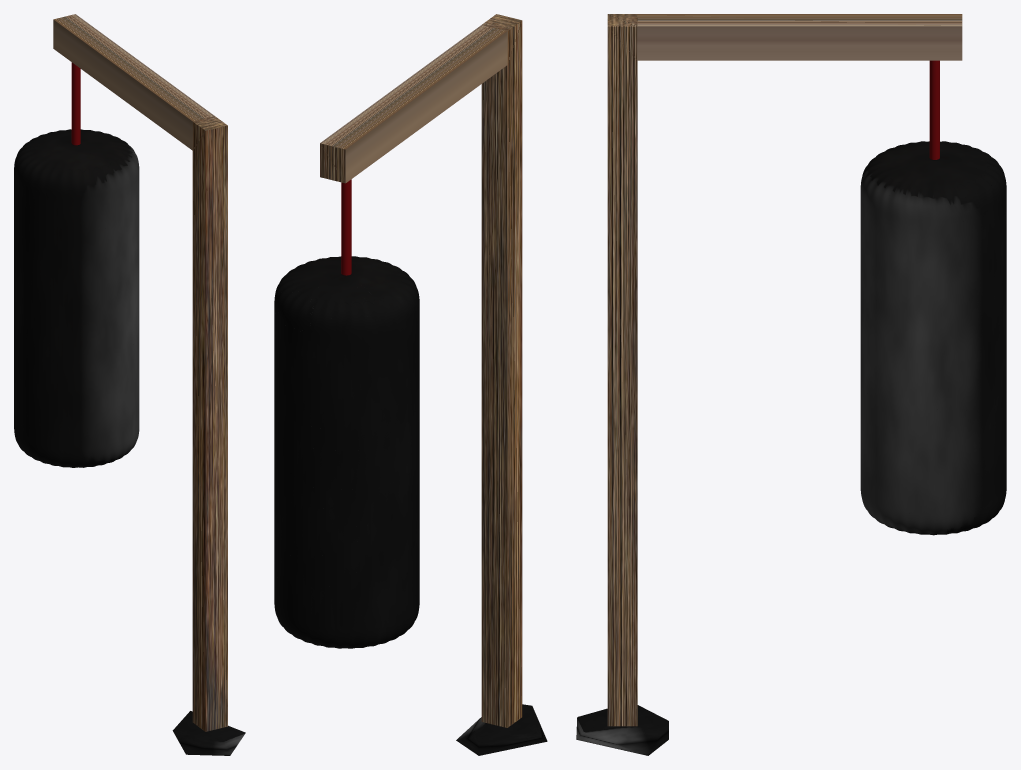
Rendered from punching_bag.glb.
3 views of the same model, side by side, from view 1: azimuth 30°, elevation 25°; view 2: azimuth 150°, elevation 25°; view 3: azimuth 270°, elevation 25° (orthographic). The views are drawn at different scales.
Visible parts, largest first — view 1: Cylinder.002_5, Cube_3, Cylinder_2, Cylinder.001_4; view 2: Cylinder.002_5, Cube_3, Cylinder_2, Cylinder.001_4; view 3: Cylinder.002_5, Cube_3, Cylinder_2, Cylinder.001_4.
Part boxes in pixels (box(x1,y1,x2,y2)): Cylinder.002_5: box(14, 129, 139, 467); Cube_3: box(53, 14, 227, 731); Cylinder_2: box(172, 711, 245, 755); Cylinder.001_4: box(71, 62, 80, 145); Cylinder.002_5: box(274, 256, 419, 648); Cube_3: box(320, 14, 522, 727); Cylinder_2: box(456, 704, 547, 755); Cylinder.001_4: box(341, 179, 351, 275); Cylinder.002_5: box(860, 141, 1006, 535); Cube_3: box(607, 14, 962, 726); Cylinder_2: box(576, 705, 668, 755); Cylinder.001_4: box(929, 60, 939, 159).
Size of the model in its own units: 1.94 by 10.53 by 5.71.
3 materials, 2 textured.
